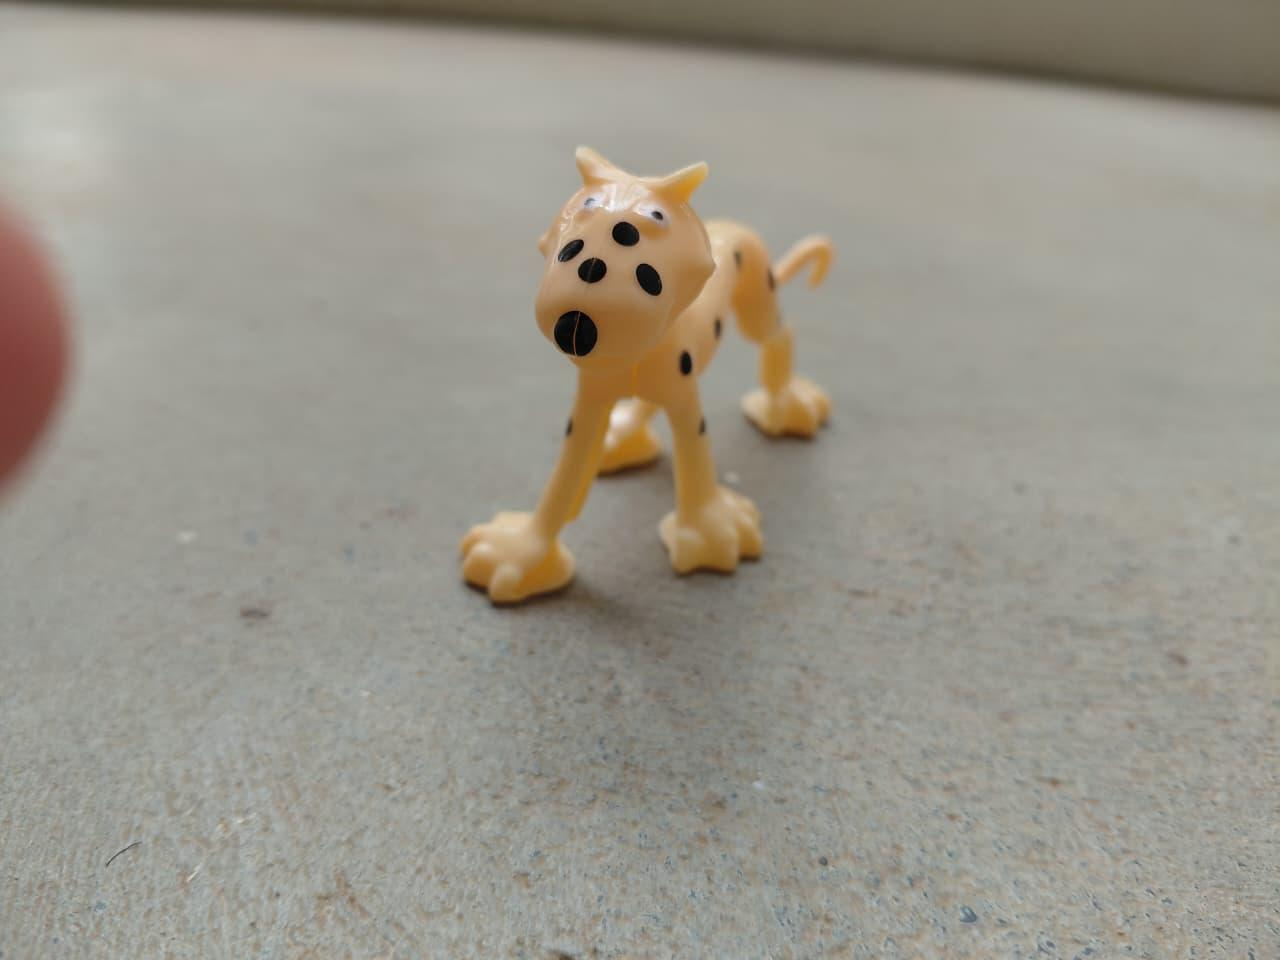cheetah: (452, 124, 835, 633)
